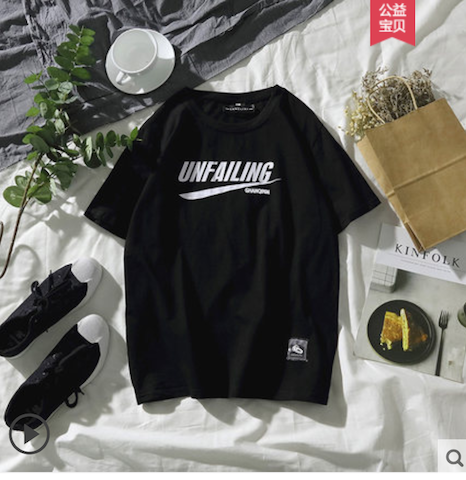clothes: (93, 92, 358, 402)
shoes: (1, 258, 108, 442)
